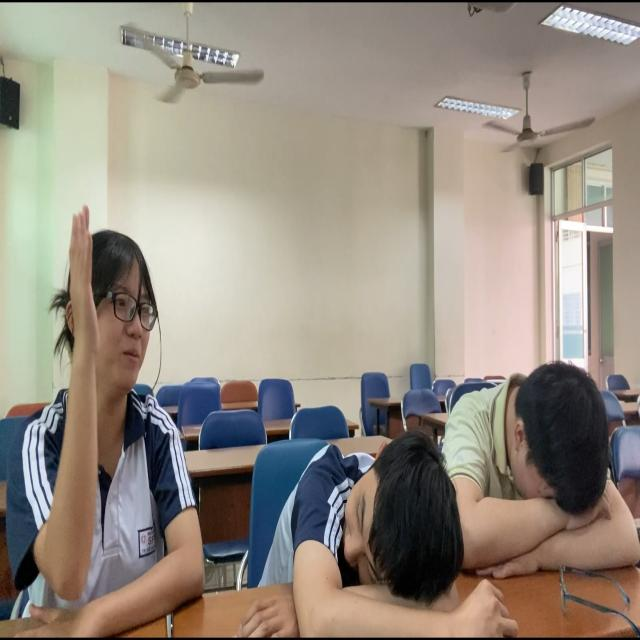raise_hand: (20, 204, 207, 634)
sleep: (245, 432, 466, 640), (449, 359, 640, 563)
